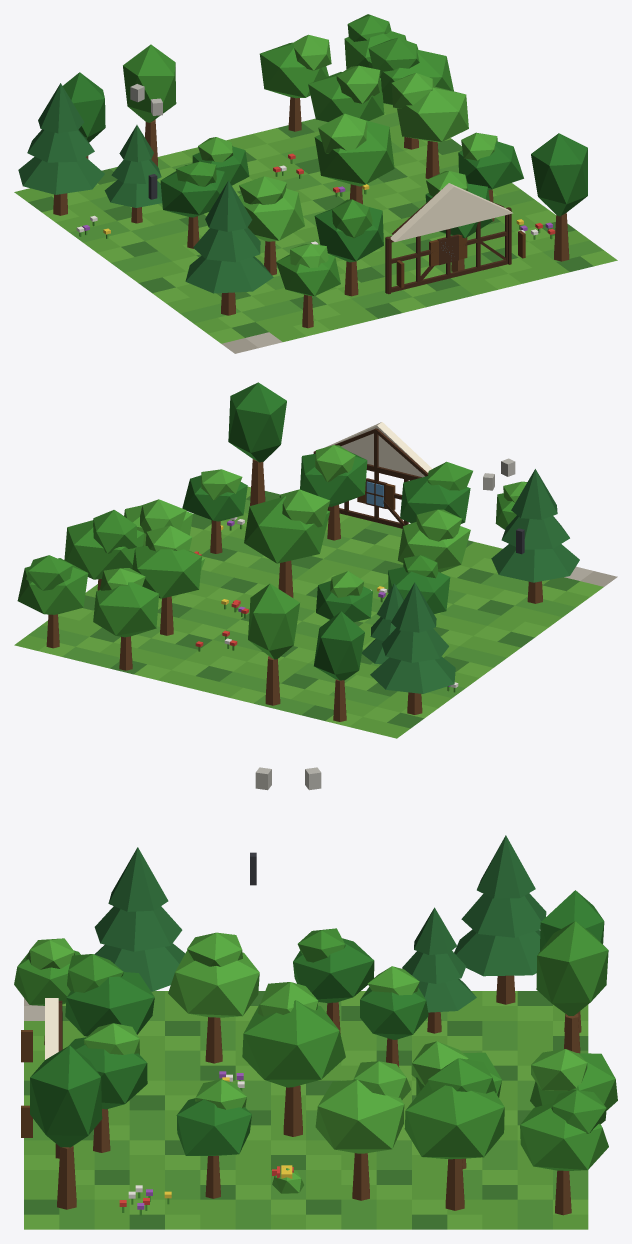
Rendered from chunk_3_1.glb.
The picture shows the model from 3 angles, top to bottom: view 1: azimuth 30°, elevation 25°; view 2: azimuth 150°, elevation 25°; view 3: azimuth 270°, elevation 25°; orthographic projection. The views are drawn at different scales.
Visible parts, largest first — view 1: chunk_3_1; view 2: chunk_3_1; view 3: chunk_3_1.
Part boxes in pixels (x1,y1,x2,y2): chunk_3_1: [14, 14, 617, 353]; chunk_3_1: [14, 382, 617, 738]; chunk_3_1: [14, 767, 617, 1229].
Bounding box in the file's own units: 17.02 × 7.26 × 17.13.
